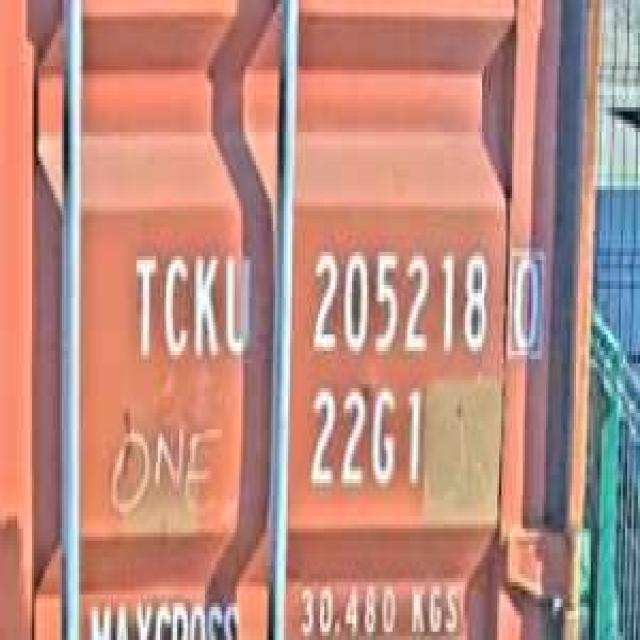dv: (503, 235, 550, 364)
owner: (126, 235, 256, 372)
serial: (305, 235, 493, 368)
size: (303, 372, 427, 504)
